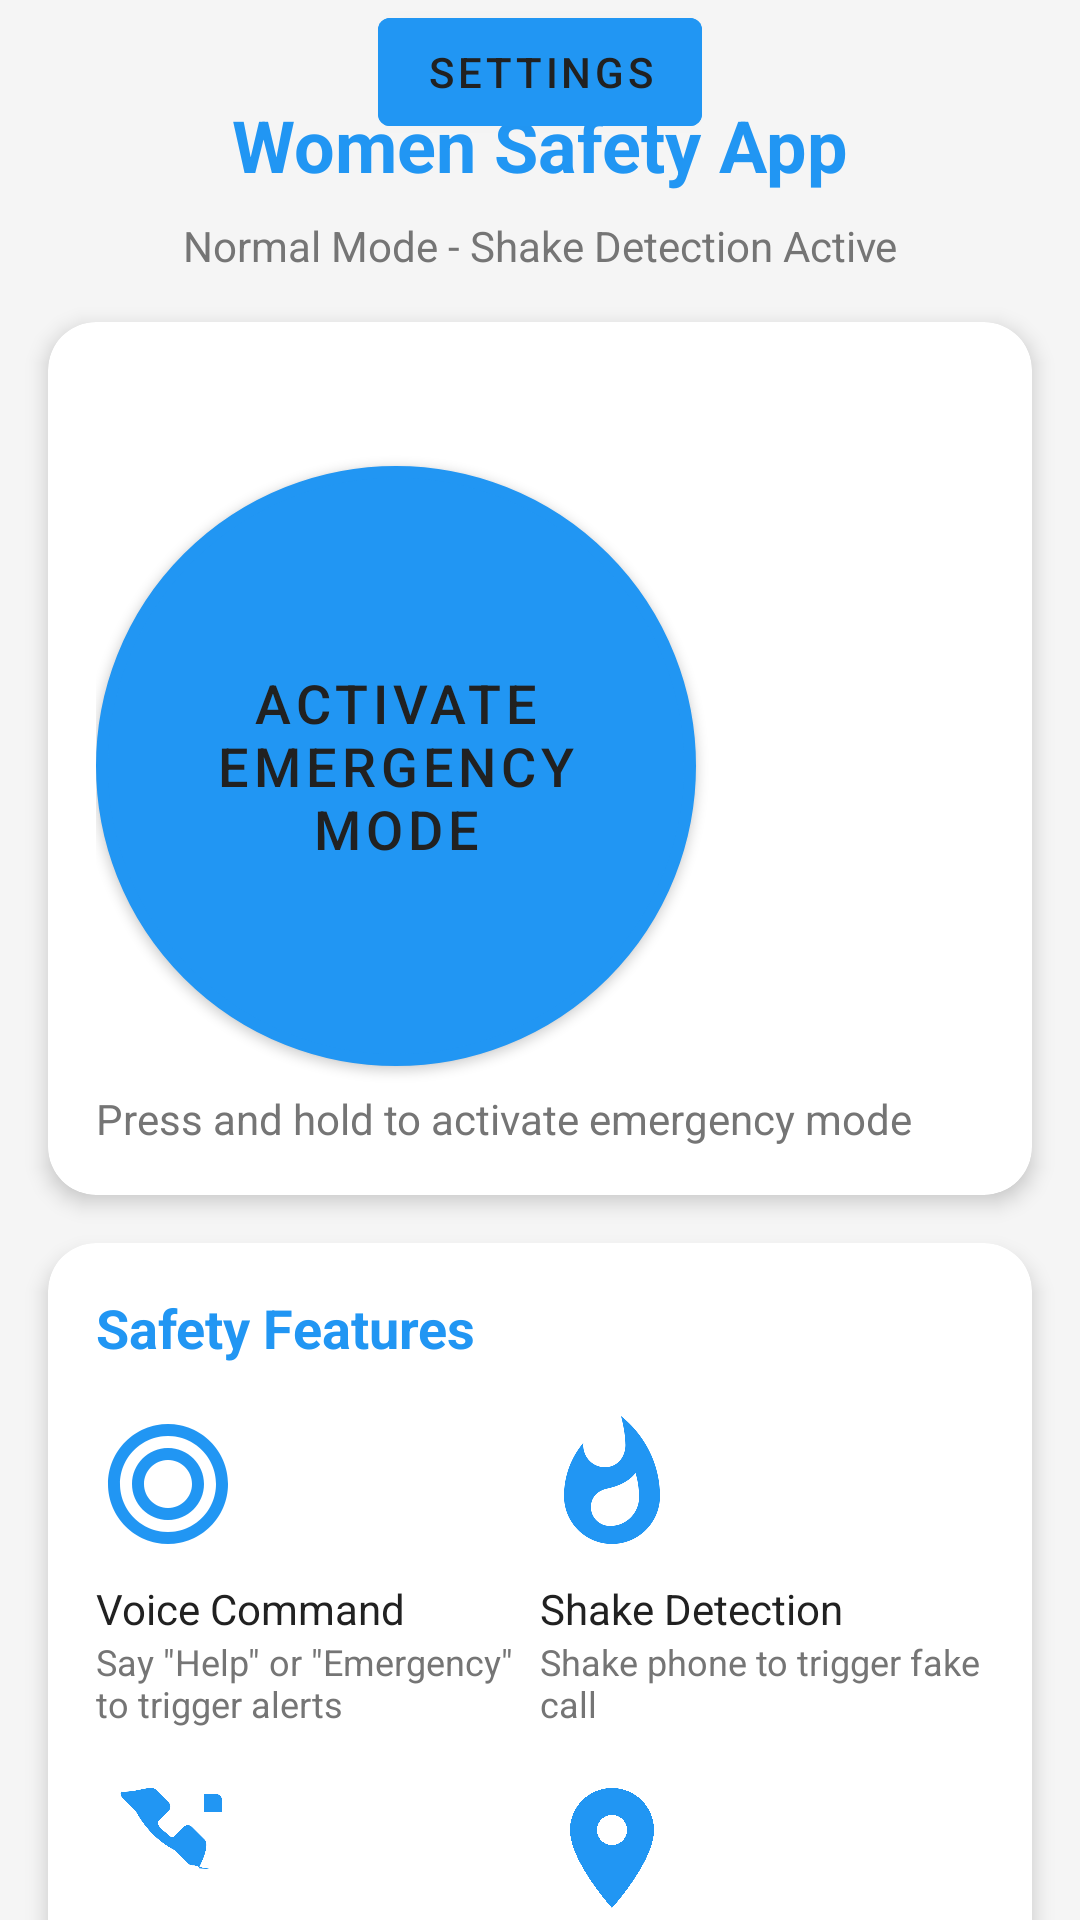

Locate icon controls on the screen. Image size 1080 x 1920, boxes as (x1, y1, x2, y2).
fake call: (120, 1788, 222, 1869)
location: (570, 1788, 654, 1908)
